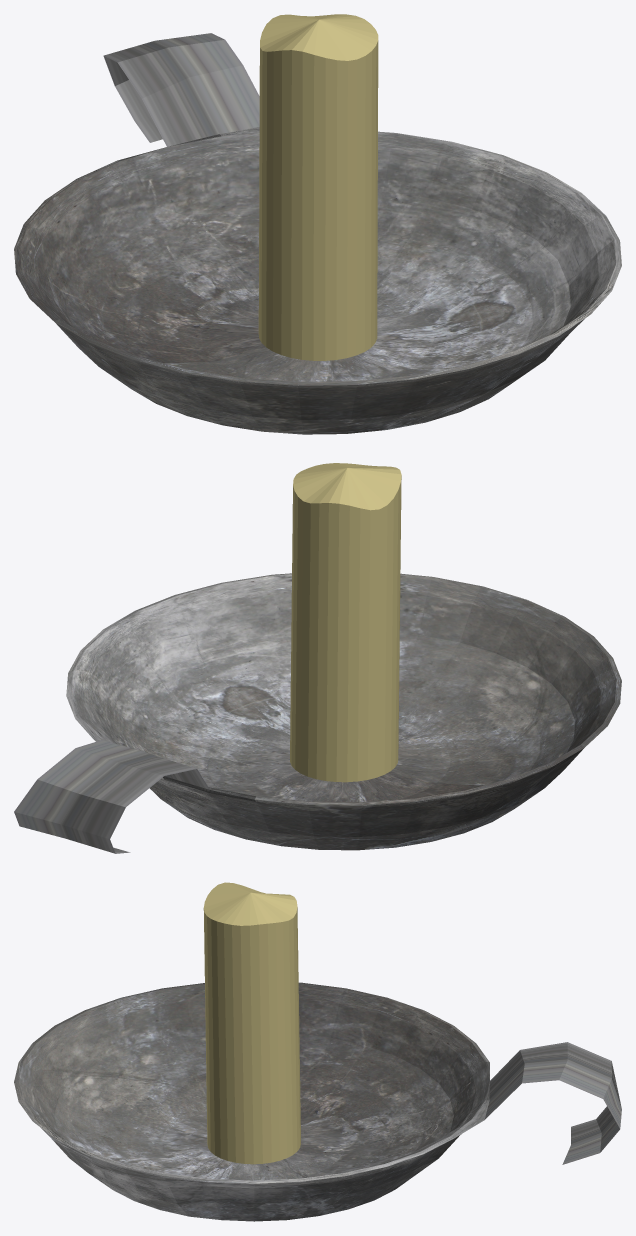
The model's file is Candle.glb.
The picture shows the model from 3 angles, top to bottom: view 1: azimuth 30°, elevation 25°; view 2: azimuth 150°, elevation 25°; view 3: azimuth 270°, elevation 25°; orthographic projection. The views are drawn at different scales.
Parts seen in each view (by area): view 1: Sphere, Sphere.001; view 2: Sphere, Sphere.001; view 3: Sphere, Sphere.001.
Boxes of the visible parts, x1,y1,x2,y2 form: Sphere: [14, 33, 621, 434]; Sphere.001: [258, 14, 378, 360]; Sphere: [14, 573, 621, 853]; Sphere.001: [290, 463, 401, 782]; Sphere: [14, 982, 621, 1221]; Sphere.001: [203, 882, 300, 1164].
Size of the model in its own units: 1.1 by 0.6975 by 1.4.
Materials: 2 (1 with a texture image).
